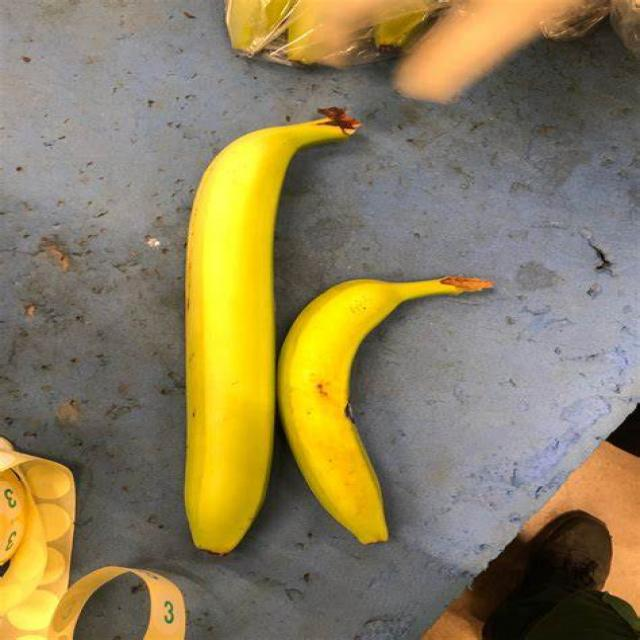Banana: (175, 102, 358, 558), (289, 266, 499, 546)
